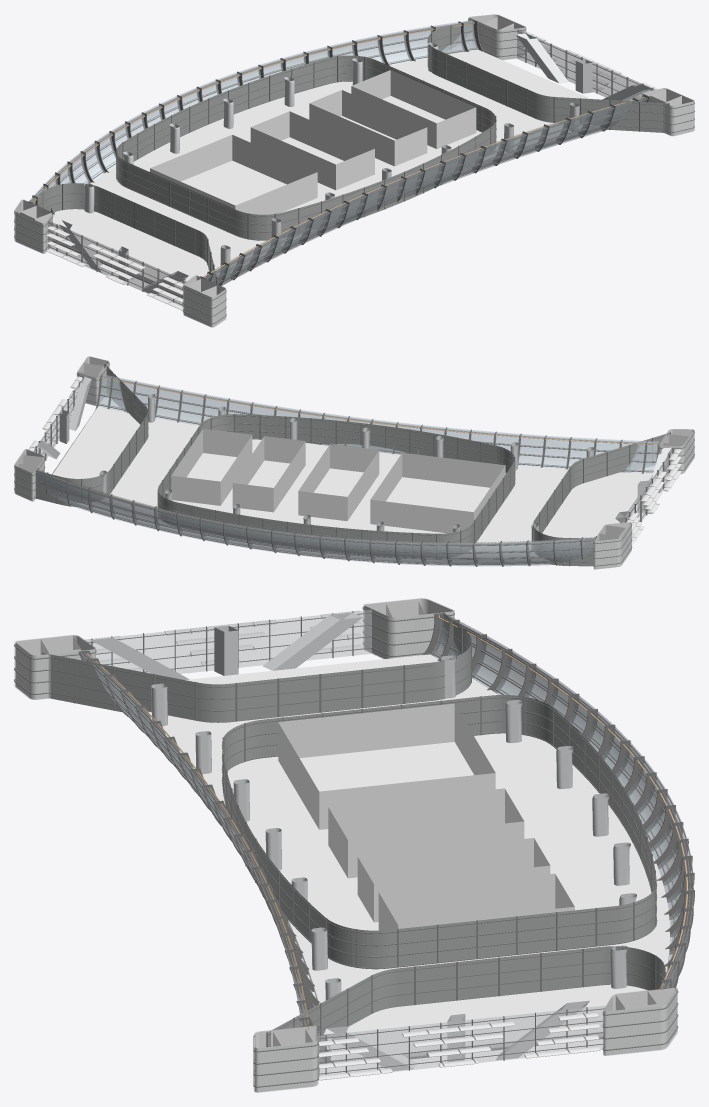
The picture shows the model from 3 angles, top to bottom: view 1: azimuth 30°, elevation 25°; view 2: azimuth 150°, elevation 25°; view 3: azimuth 270°, elevation 25°; orthographic projection. The views are drawn at different scales.
Visible parts, largest first — view 1: floor.050; view 2: floor.050; view 3: floor.050.
Part boxes in pixels (x1,y1,x2,y2): floor.050: (14,14,694,327); floor.050: (14,356,694,569); floor.050: (14,598,694,1092).
Size of the model in its own units: 82.03 by 3.74 by 52.34.
14 materials, 1 textured.
